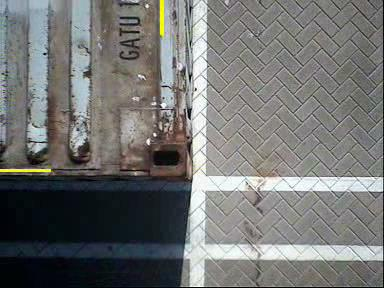groundmarker_2: (159, 154, 237, 208)
